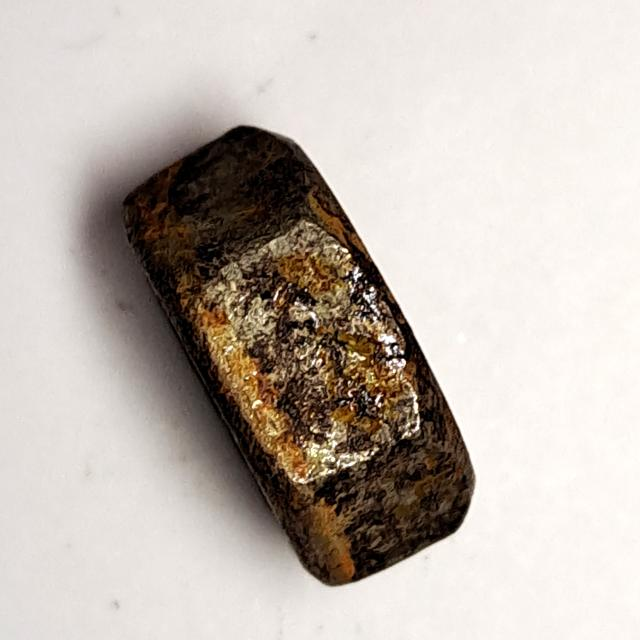Side_Rust: (102, 113, 489, 606)
